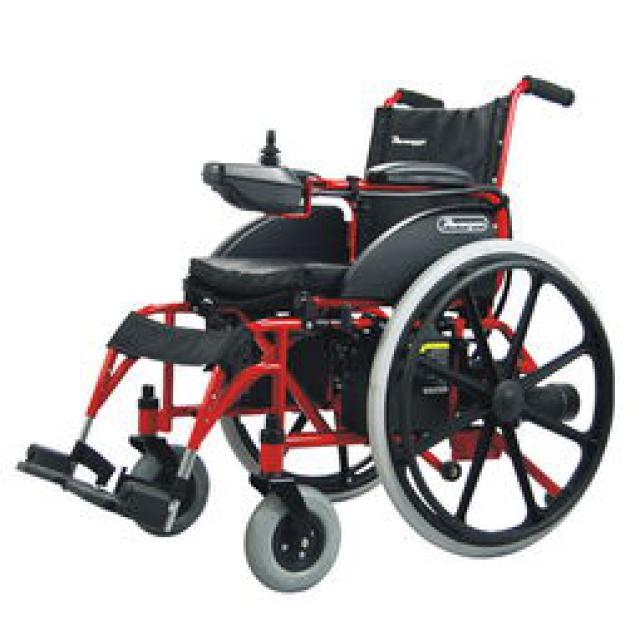wheelchair: (15, 72, 618, 592)
